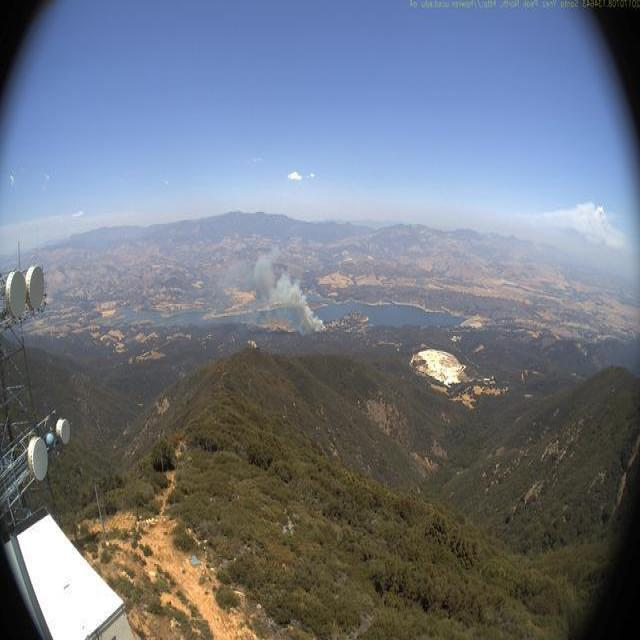Smoke: (216, 247, 331, 333)
